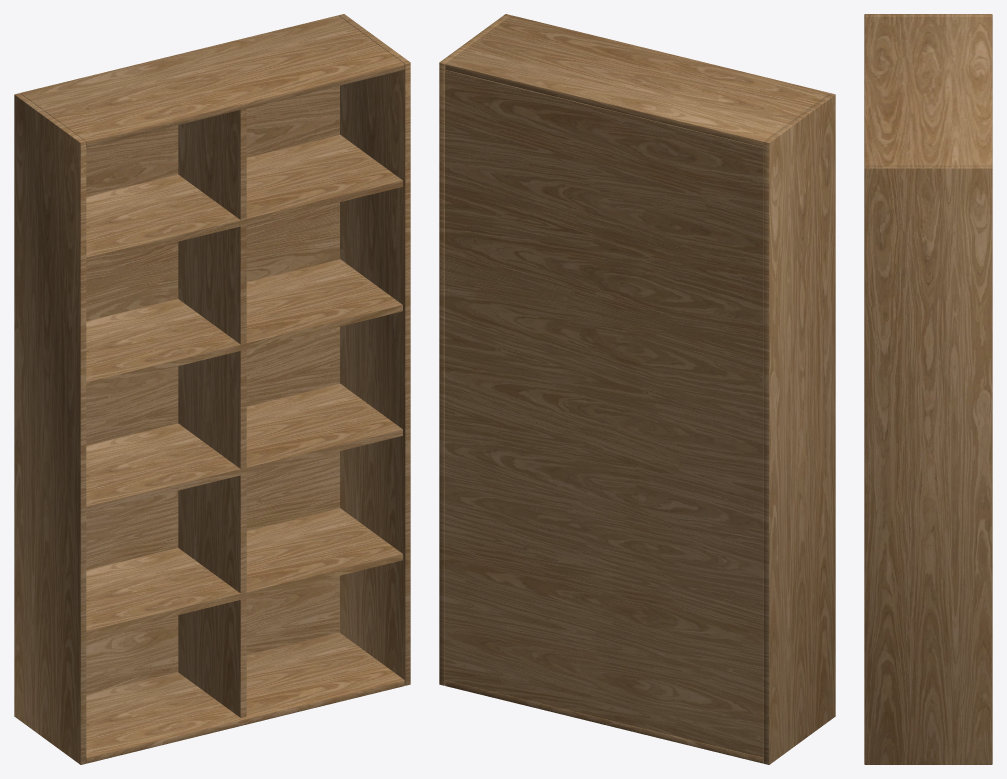
Rendered from estanteria_abierta_base.glb.
The picture shows the model from 3 angles, left to right: view 1: azimuth 30°, elevation 25°; view 2: azimuth 150°, elevation 25°; view 3: azimuth 270°, elevation 25°; orthographic projection. The views are drawn at different scales.
Parts seen in each view (by area): view 1: estanteria_abierta_base; view 2: estanteria_abierta_base; view 3: estanteria_abierta_base.
Boxes of the visible parts, box(x1,y1,x2,y2) form: estanteria_abierta_base: box(14, 14, 410, 764); estanteria_abierta_base: box(439, 14, 835, 764); estanteria_abierta_base: box(864, 14, 992, 764).
Size of the model in its own units: 1 by 1.8 by 0.35.
1 material, 1 textured.
